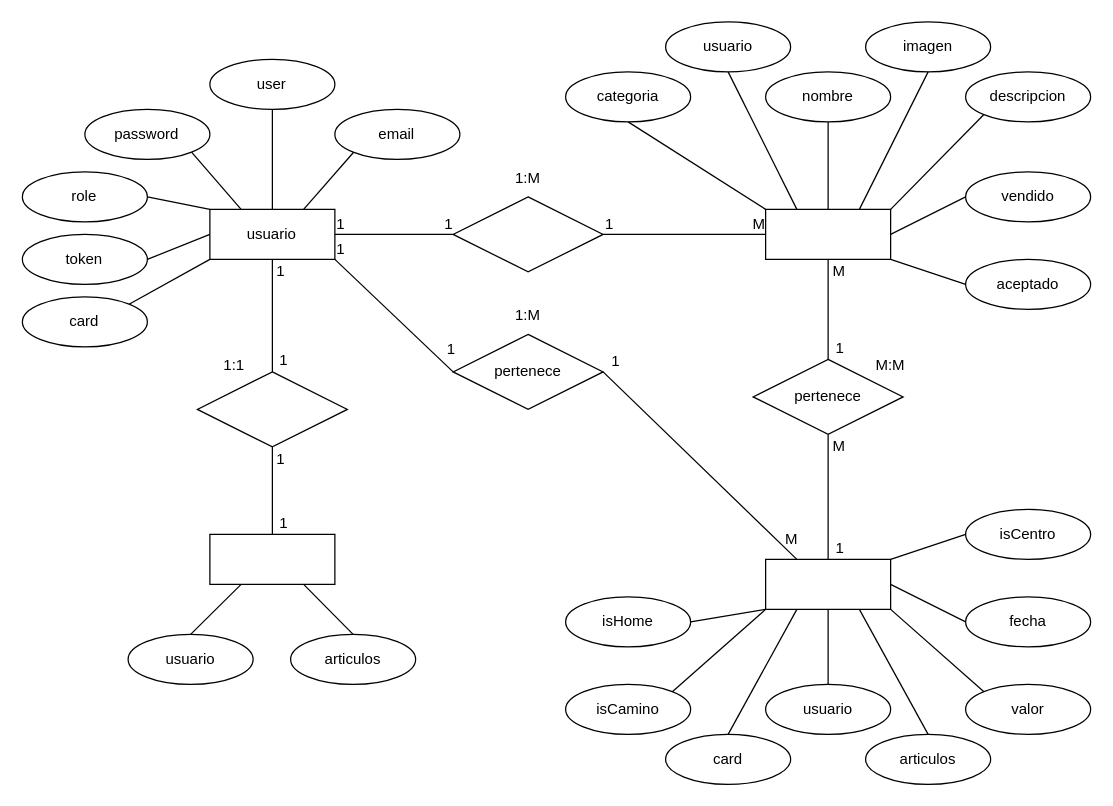
Image size: 1113x806. Some labels were removed from this diagram. The centre of each missing label's shape, as x and y in pixels:
articulo: [827,233]
carrito: [272,558]
coloca: [527,234]
tiene: [271,409]
venta: [827,583]
